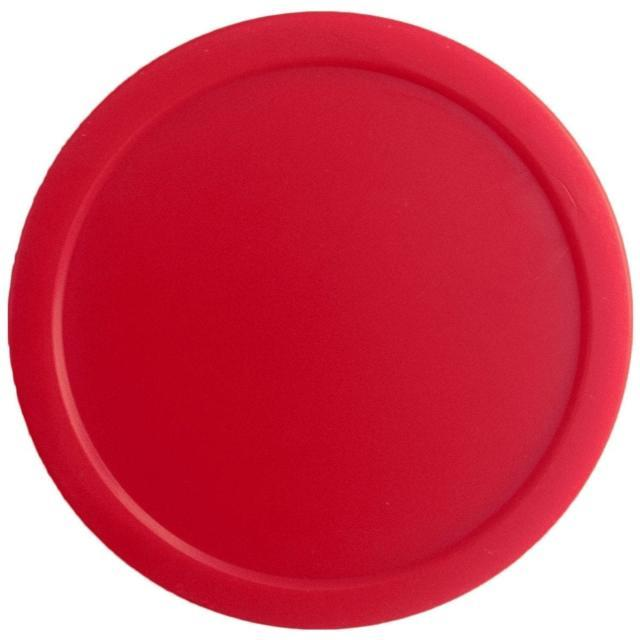chip: (12, 12, 633, 633)
